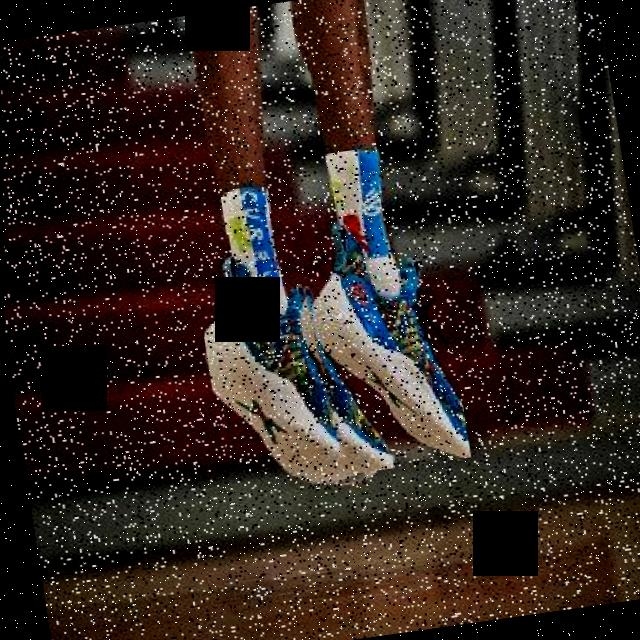shoe: (192, 241, 381, 504), (289, 208, 470, 478)
